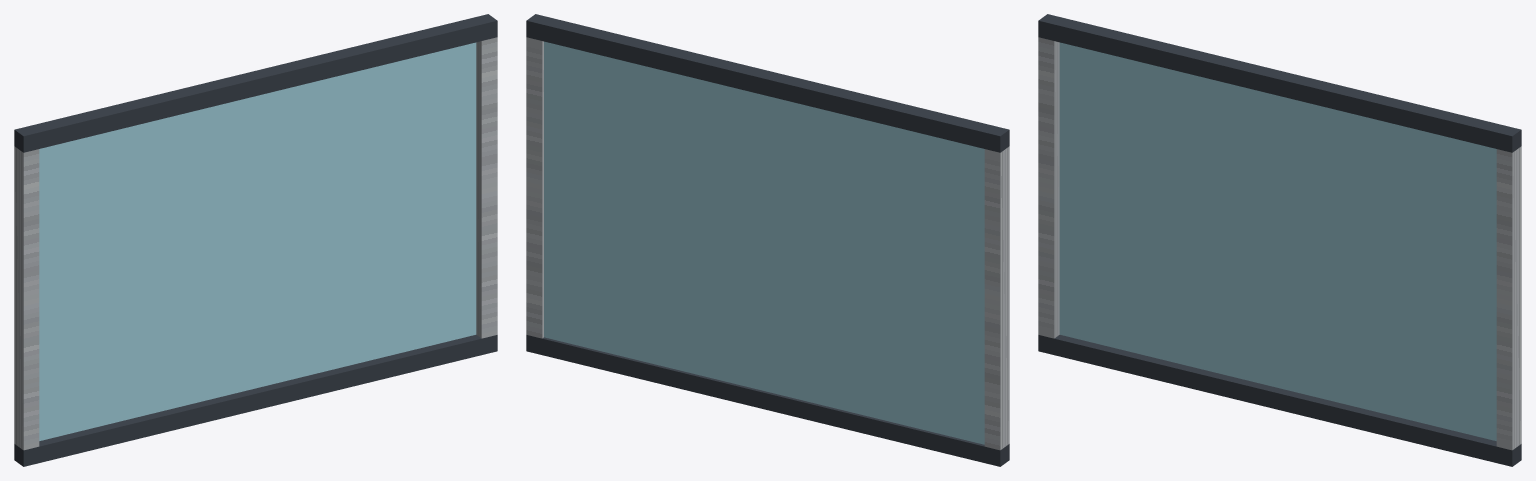
File: glass-3x2.glb
3 renders of one model, left to right at view 1: azimuth 30°, elevation 25°; view 2: azimuth 150°, elevation 25°; view 3: azimuth 330°, elevation 25°, orthographic.
Visible parts, largest first — view 1: Glass3x2; view 2: Glass3x2; view 3: Glass3x2.
Boxes of the visible parts, <box> form: Glass3x2: <box>14,14,497,466</box>; Glass3x2: <box>526,14,1009,466</box>; Glass3x2: <box>1038,14,1521,466</box>.
Bounding box in the file's own units: 3 × 2 × 0.1.
Materials: 3 (1 with a texture image).
